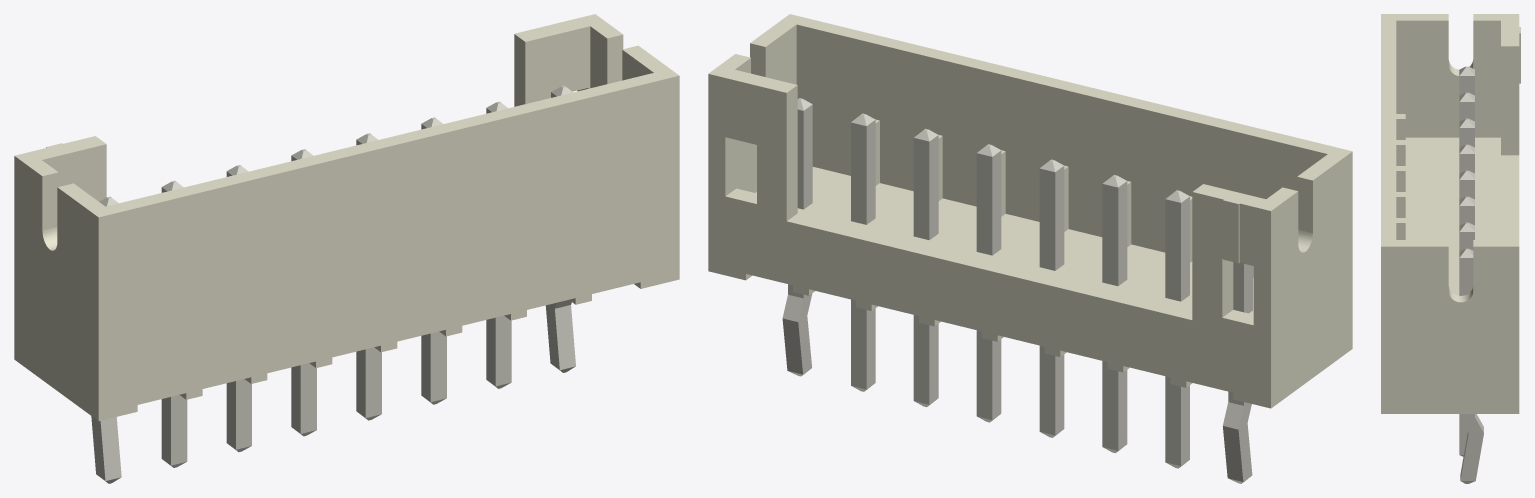
File: kc-jst_ph_b8b-ph-k_1x08_p2.00mm_vertical.glb
3 renders of one model, left to right at view 1: azimuth 30°, elevation 25°; view 2: azimuth 150°, elevation 25°; view 3: azimuth 270°, elevation 25°, orthographic. The views are drawn at different scales.
Visible parts, largest first — view 1: 0.75_0.75_0.5833333333333334_0, 0.6666666666666666_0.6666666666666666_0.5833333333333334_0.8; view 2: 0.75_0.75_0.5833333333333334_0, 0.6666666666666666_0.6666666666666666_0.5833333333333334_0.8; view 3: 0.75_0.75_0.5833333333333334_0, 0.6666666666666666_0.6666666666666666_0.5833333333333334_0.8.
Boxes of the visible parts, x1=… form: 0.75_0.75_0.5833333333333334_0: x1=14, y1=14, x2=679, y2=421; 0.6666666666666666_0.6666666666666666_0.5833333333333334_0.8: x1=91, y1=85, x2=575, y2=483; 0.75_0.75_0.5833333333333334_0: x1=708, y1=14, x2=1352, y2=408; 0.6666666666666666_0.6666666666666666_0.5833333333333334_0.8: x1=782, y1=98, x2=1252, y2=483; 0.75_0.75_0.5833333333333334_0: x1=1381, y1=14, x2=1520, y2=413; 0.6666666666666666_0.6666666666666666_0.5833333333333334_0.8: x1=1459, y1=66, x2=1483, y2=483.
Size of the model in its own units: 1.79 by 0.94 by 0.455.
